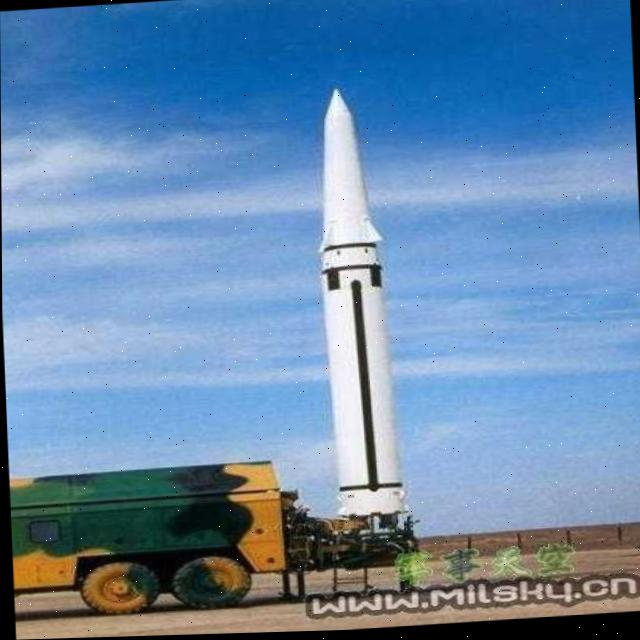missile: (306, 82, 423, 530)
